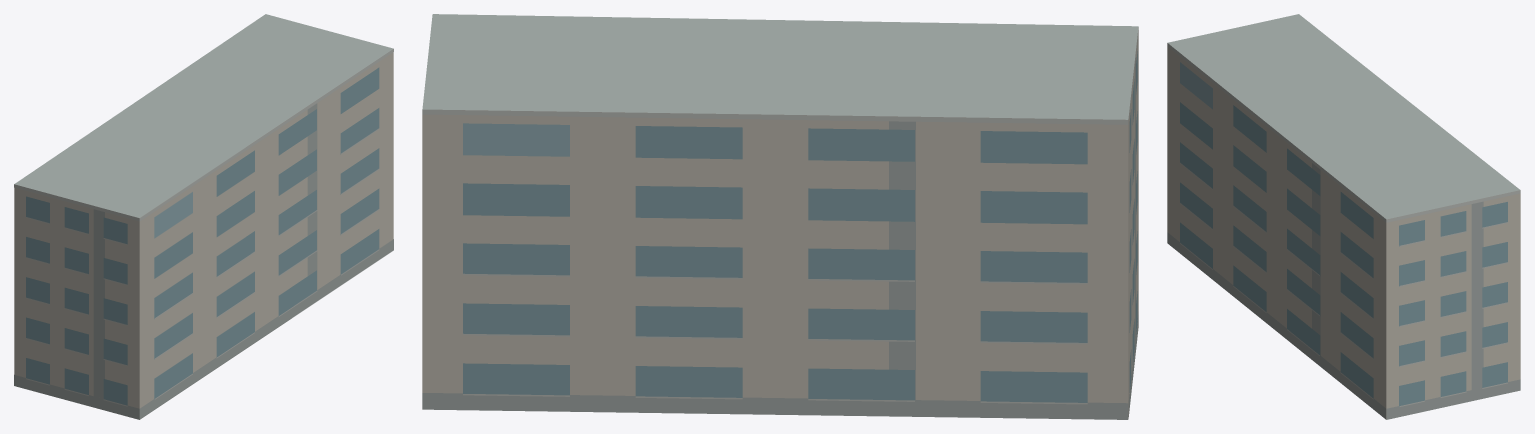
File: survey-upis-32768317.glb
3 views of the same model, side by side, from view 1: azimuth 30°, elevation 25°; view 2: azimuth 150°, elevation 25°; view 3: azimuth 270°, elevation 25° (orthographic). The views are drawn at different scales.
Parts seen in each view (by area): view 1: survey-upis-32768317.tmp; view 2: survey-upis-32768317.tmp; view 3: survey-upis-32768317.tmp.
Boxes of the visible parts, x1,y1,x2,y2 form: survey-upis-32768317.tmp: (14, 14, 393, 419); survey-upis-32768317.tmp: (422, 14, 1138, 419); survey-upis-32768317.tmp: (1167, 14, 1520, 419).
Size of the model in its own units: 32.1 by 14.6 by 23.32.
